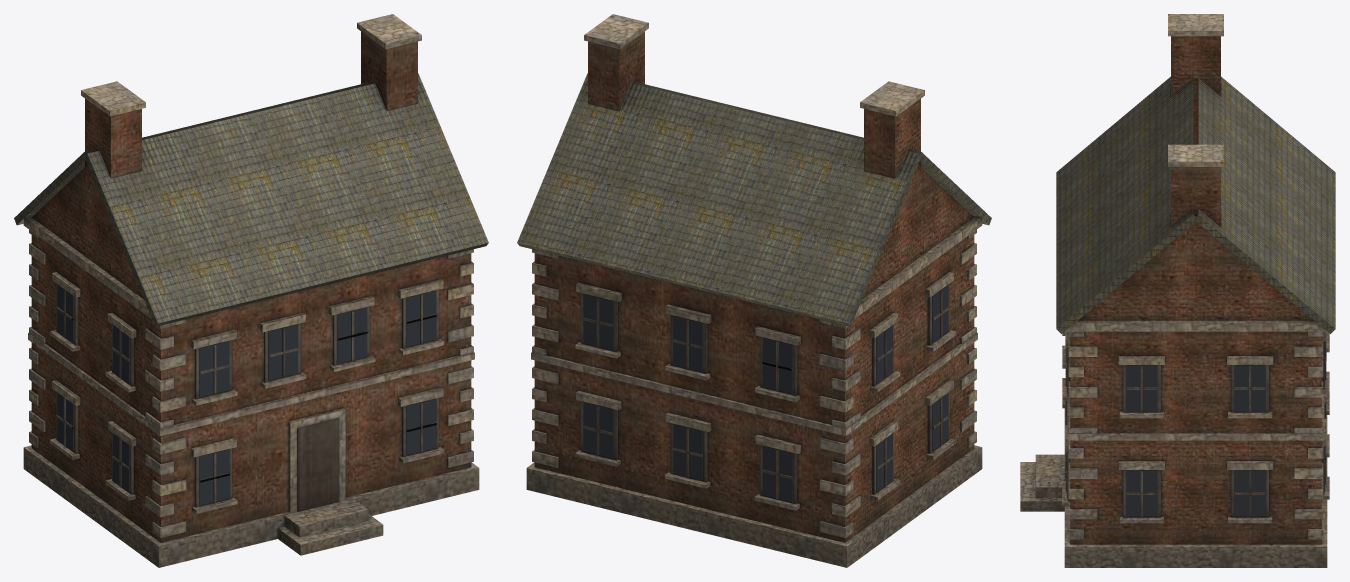
Rendered from house_earlymodern.glb.
The picture shows the model from 3 angles, left to right: view 1: azimuth 30°, elevation 25°; view 2: azimuth 150°, elevation 25°; view 3: azimuth 270°, elevation 25°; orthographic projection. The views are drawn at different scales.
Parts seen in each view (by area): view 1: house_earlymodern; view 2: house_earlymodern; view 3: house_earlymodern.
Boxes of the visible parts, x1,y1,x2,y2 form: house_earlymodern: (14,14,488,567); house_earlymodern: (517,14,991,567); house_earlymodern: (1020,14,1335,567).
Bounding box in the file's own units: 9.6 × 11.55 × 8.17.
2 materials, 1 textured.
